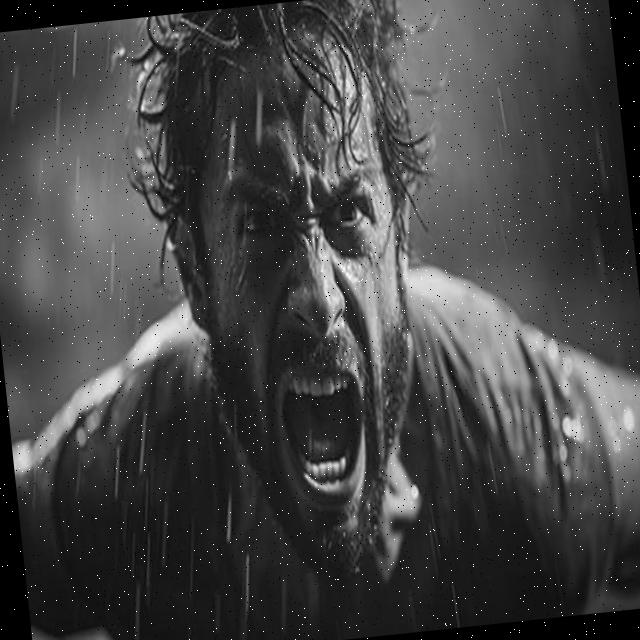Angry: (176, 29, 432, 586)
